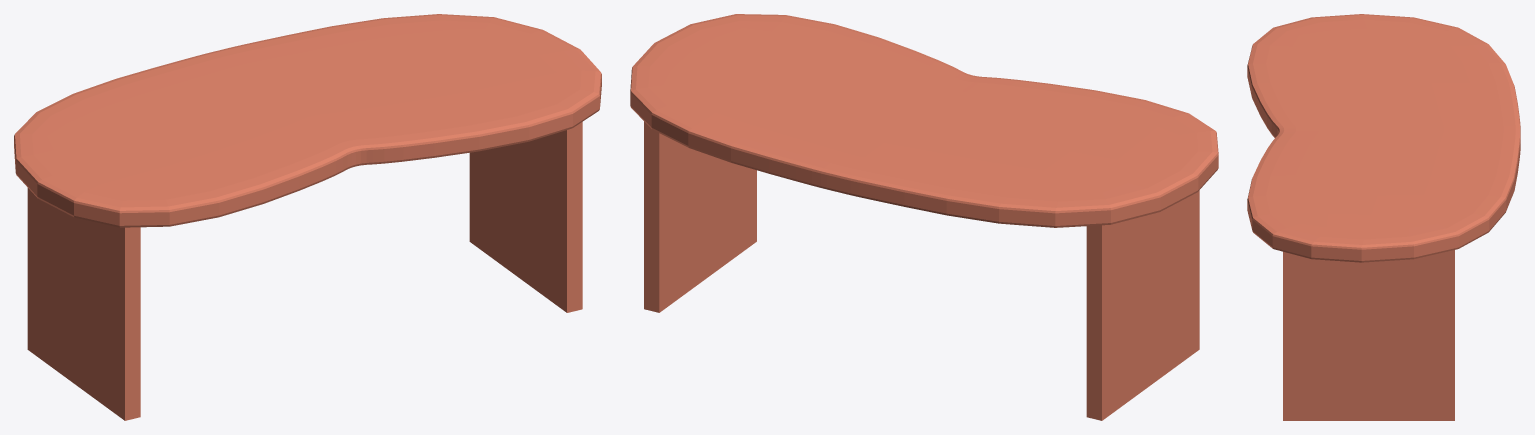
File: Desk.fbx
3 views of the same model, side by side, from view 1: azimuth 30°, elevation 25°; view 2: azimuth 150°, elevation 25°; view 3: azimuth 270°, elevation 25° (orthographic). The views are drawn at different scales.
Parts seen in each view (by area): view 1: Cube, Cube.001; view 2: Cube, Cube.001; view 3: Cube, Cube.001.
Boxes of the visible parts, x1=… form: Cube: x1=14, y1=14, x2=601, y2=227; Cube.001: x1=27, y1=122, x2=582, y2=420; Cube: x1=630, y1=14, x2=1218, y2=227; Cube.001: x1=644, y1=121, x2=1199, y2=420; Cube: x1=1247, y1=14, x2=1520, y2=262; Cube.001: x1=1283, y1=250, x2=1454, y2=420.
Size of the model in its own units: 3.85 by 1.48 by 1.9.
